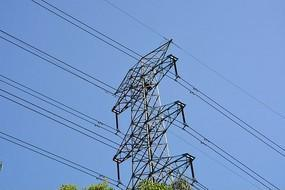power_tower: (111, 34, 196, 190)
